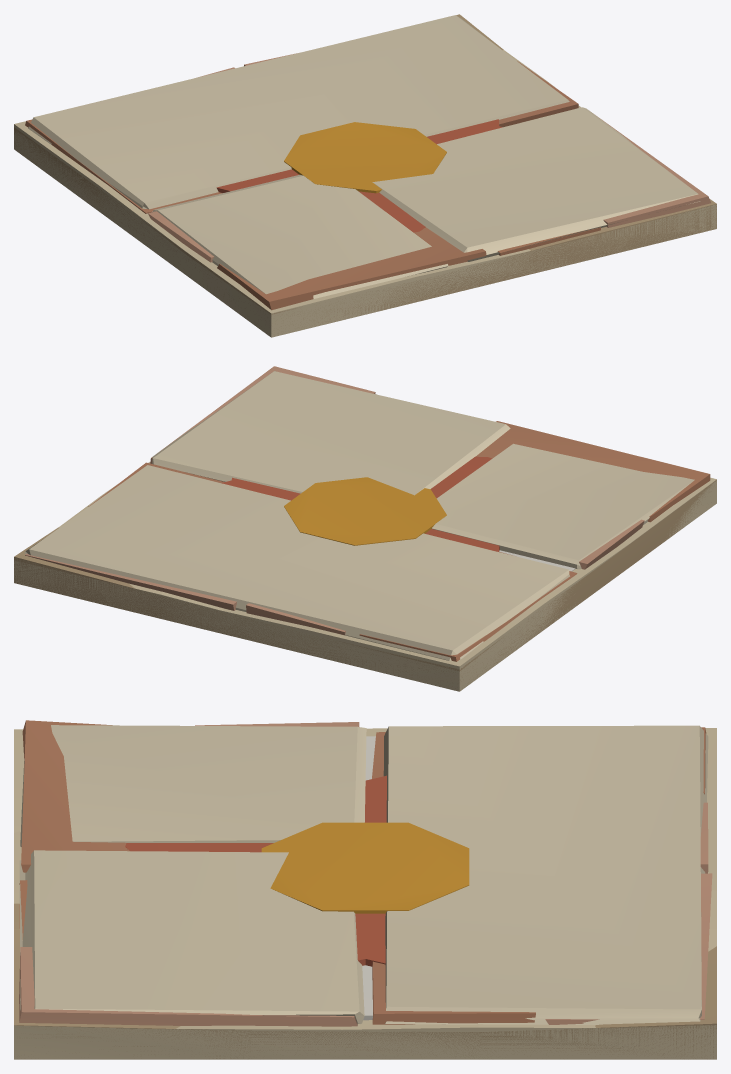
Rendered from tile.cobble.glb.
The picture shows the model from 3 angles, top to bottom: view 1: azimuth 30°, elevation 25°; view 2: azimuth 150°, elevation 25°; view 3: azimuth 270°, elevation 25°; orthographic projection. The views are drawn at different scales.
Visible parts, largest first — view 1: tile.cobble.v2.mesh, tile.cobble.v0.mesh, tile.cobble.v1.mesh; view 2: tile.cobble.v2.mesh, tile.cobble.v0.mesh, tile.cobble.v1.mesh; view 3: tile.cobble.v2.mesh, tile.cobble.v0.mesh, tile.cobble.v1.mesh.
Part boxes in pixels (x1,y1,x2,y2): tile.cobble.v2.mesh: (14,15,716,329); tile.cobble.v0.mesh: (14,51,716,337); tile.cobble.v1.mesh: (14,14,716,334); tile.cobble.v2.mesh: (14,371,716,689); tile.cobble.v0.mesh: (14,456,716,691); tile.cobble.v1.mesh: (14,366,716,691); tile.cobble.v2.mesh: (14,725,716,1059); tile.cobble.v0.mesh: (14,736,716,1059); tile.cobble.v1.mesh: (14,720,716,1059).
Size of the model in its own units: 1 by 0.0751 by 1.
